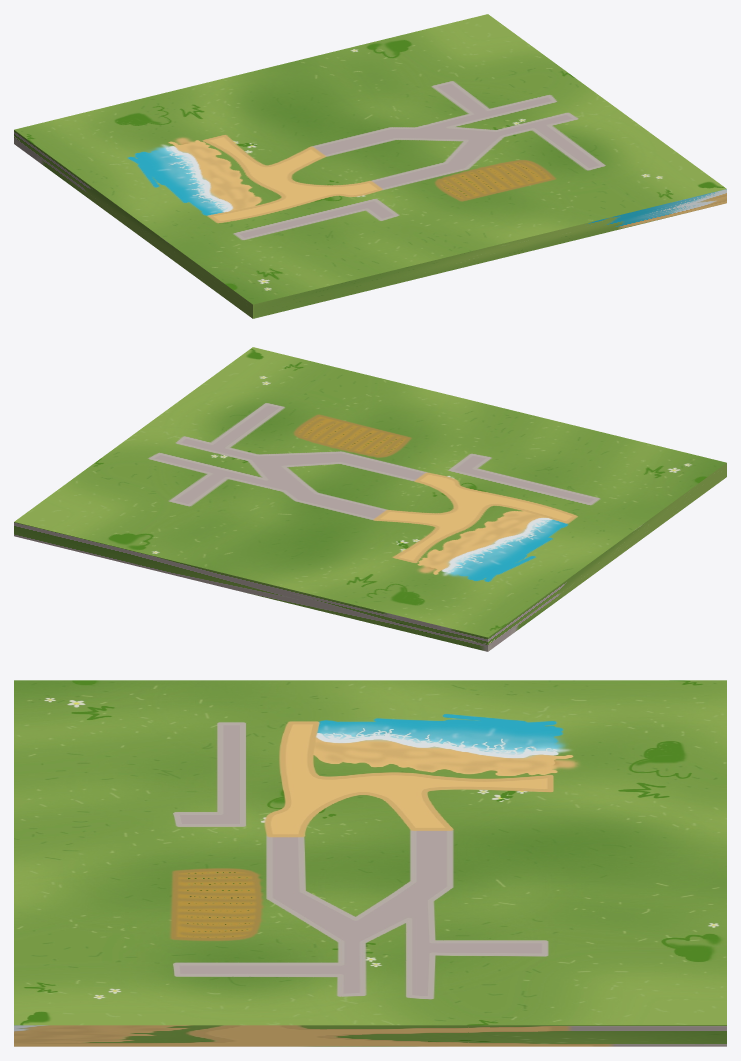
The model's file is ground 4 levelselect2.fbx.
3 renders of one model, top to bottom at view 1: azimuth 30°, elevation 25°; view 2: azimuth 150°, elevation 25°; view 3: azimuth 270°, elevation 25°, orthographic. The views are drawn at different scales.
Parts seen in each view (by area): view 1: Cube.001; view 2: Cube.001; view 3: Cube.001.
Part boxes in pixels (x1=…): Cube.001: x1=14, y1=14, x2=726, y2=318; Cube.001: x1=14, y1=347, x2=726, y2=651; Cube.001: x1=14, y1=680, x2=726, y2=1046.
Size of the model in its own units: 3978 by 115 by 3473.
